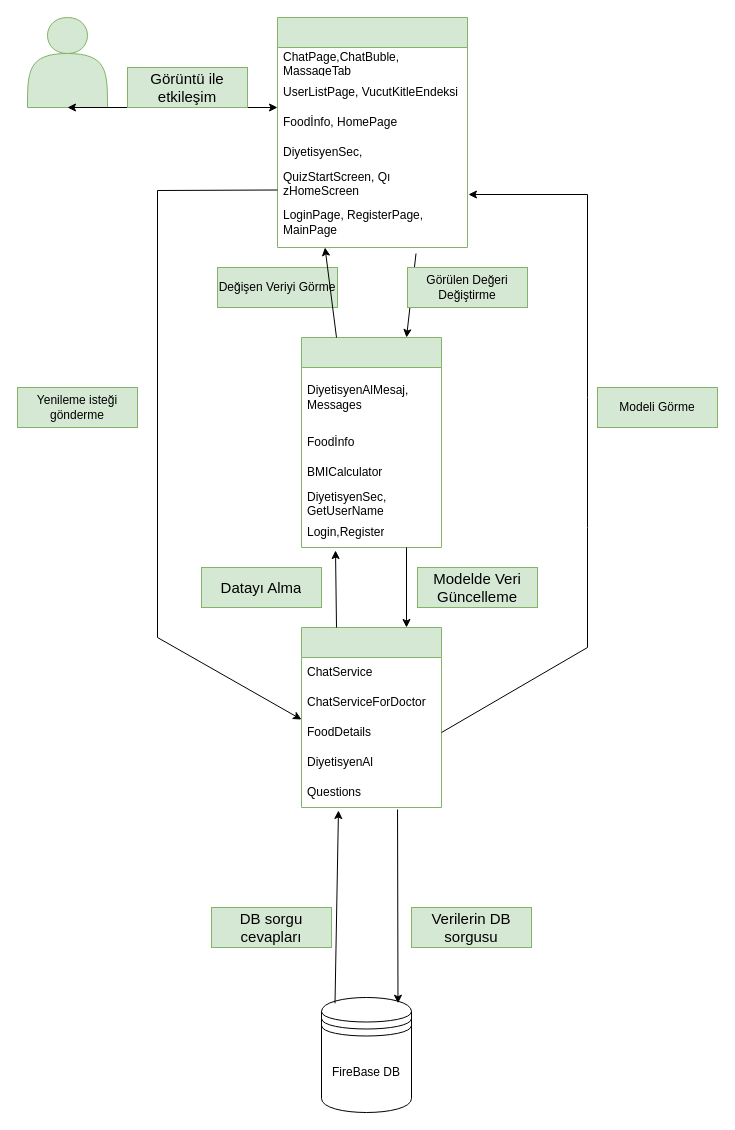
Some shapes in this 735 by 1130 pixel diagram are drawn without their labels. The shapes that lost their labels are listed below. From the top down, each one's box as (x1, y1, x2, y2) in pixels, then its label:
(26, 16, 108, 108): USER
(276, 16, 468, 248): View
(300, 336, 442, 548): Controller
(300, 626, 442, 808): Model
